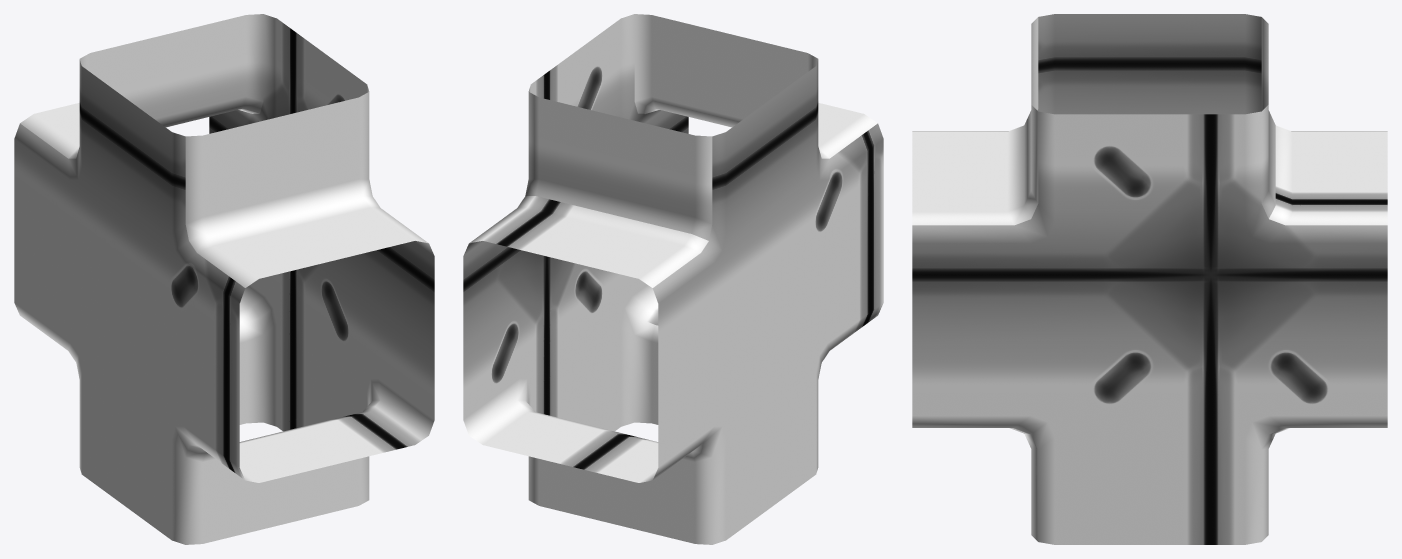
File: MDL_Trim_Junction.fbx
The picture shows the model from 3 angles, left to right: view 1: azimuth 30°, elevation 25°; view 2: azimuth 150°, elevation 25°; view 3: azimuth 270°, elevation 25°; orthographic projection. The views are drawn at different scales.
Visible parts, largest first — view 1: trimJunction; view 2: trimJunction; view 3: trimJunction.
Part boxes in pixels (x1,y1,x2,y2): trimJunction: (14,14,434,544); trimJunction: (463,14,883,544); trimJunction: (912,14,1387,544).
Bounding box in the file's own units: 0.5 × 1 × 1.
